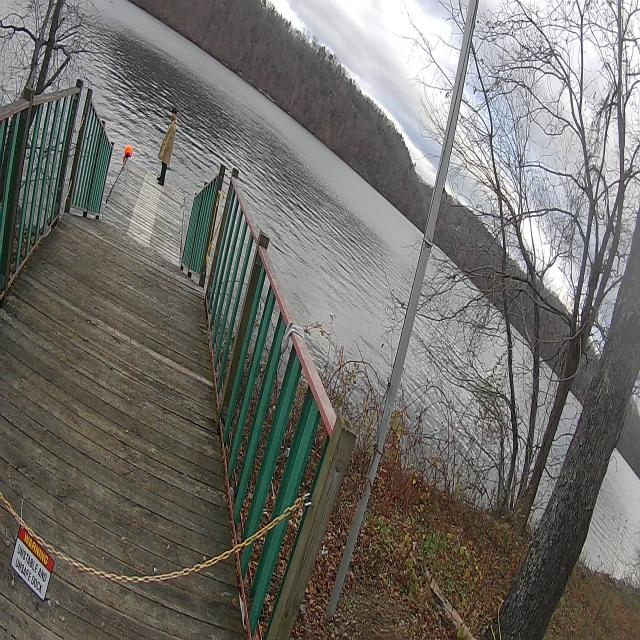Buoy: (124, 142, 134, 161)
